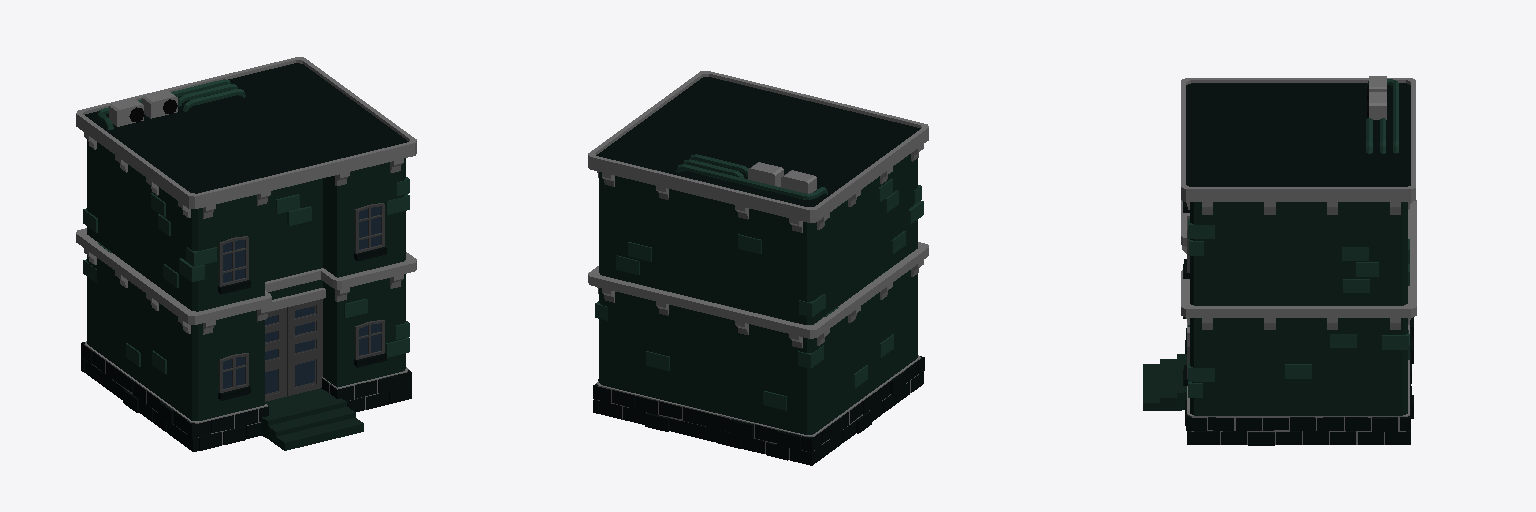
The model's file is 2Story_Center_Mat.obj.
3 renders of one model, left to right at view 1: azimuth 30°, elevation 25°; view 2: azimuth 150°, elevation 25°; view 3: azimuth 270°, elevation 25°, orthographic.
Parts seen in each view (by area): view 1: 2Story_Center_Mat_Cube.020; view 2: 2Story_Center_Mat_Cube.020; view 3: 2Story_Center_Mat_Cube.020.
Boxes of the visible parts, <box> form: 2Story_Center_Mat_Cube.020: <box>76,57,416,451</box>; 2Story_Center_Mat_Cube.020: <box>588,71,928,465</box>; 2Story_Center_Mat_Cube.020: <box>1143,76,1416,445</box>.
Bounding box in the file's own units: 2.42 × 2.74 × 2.5.